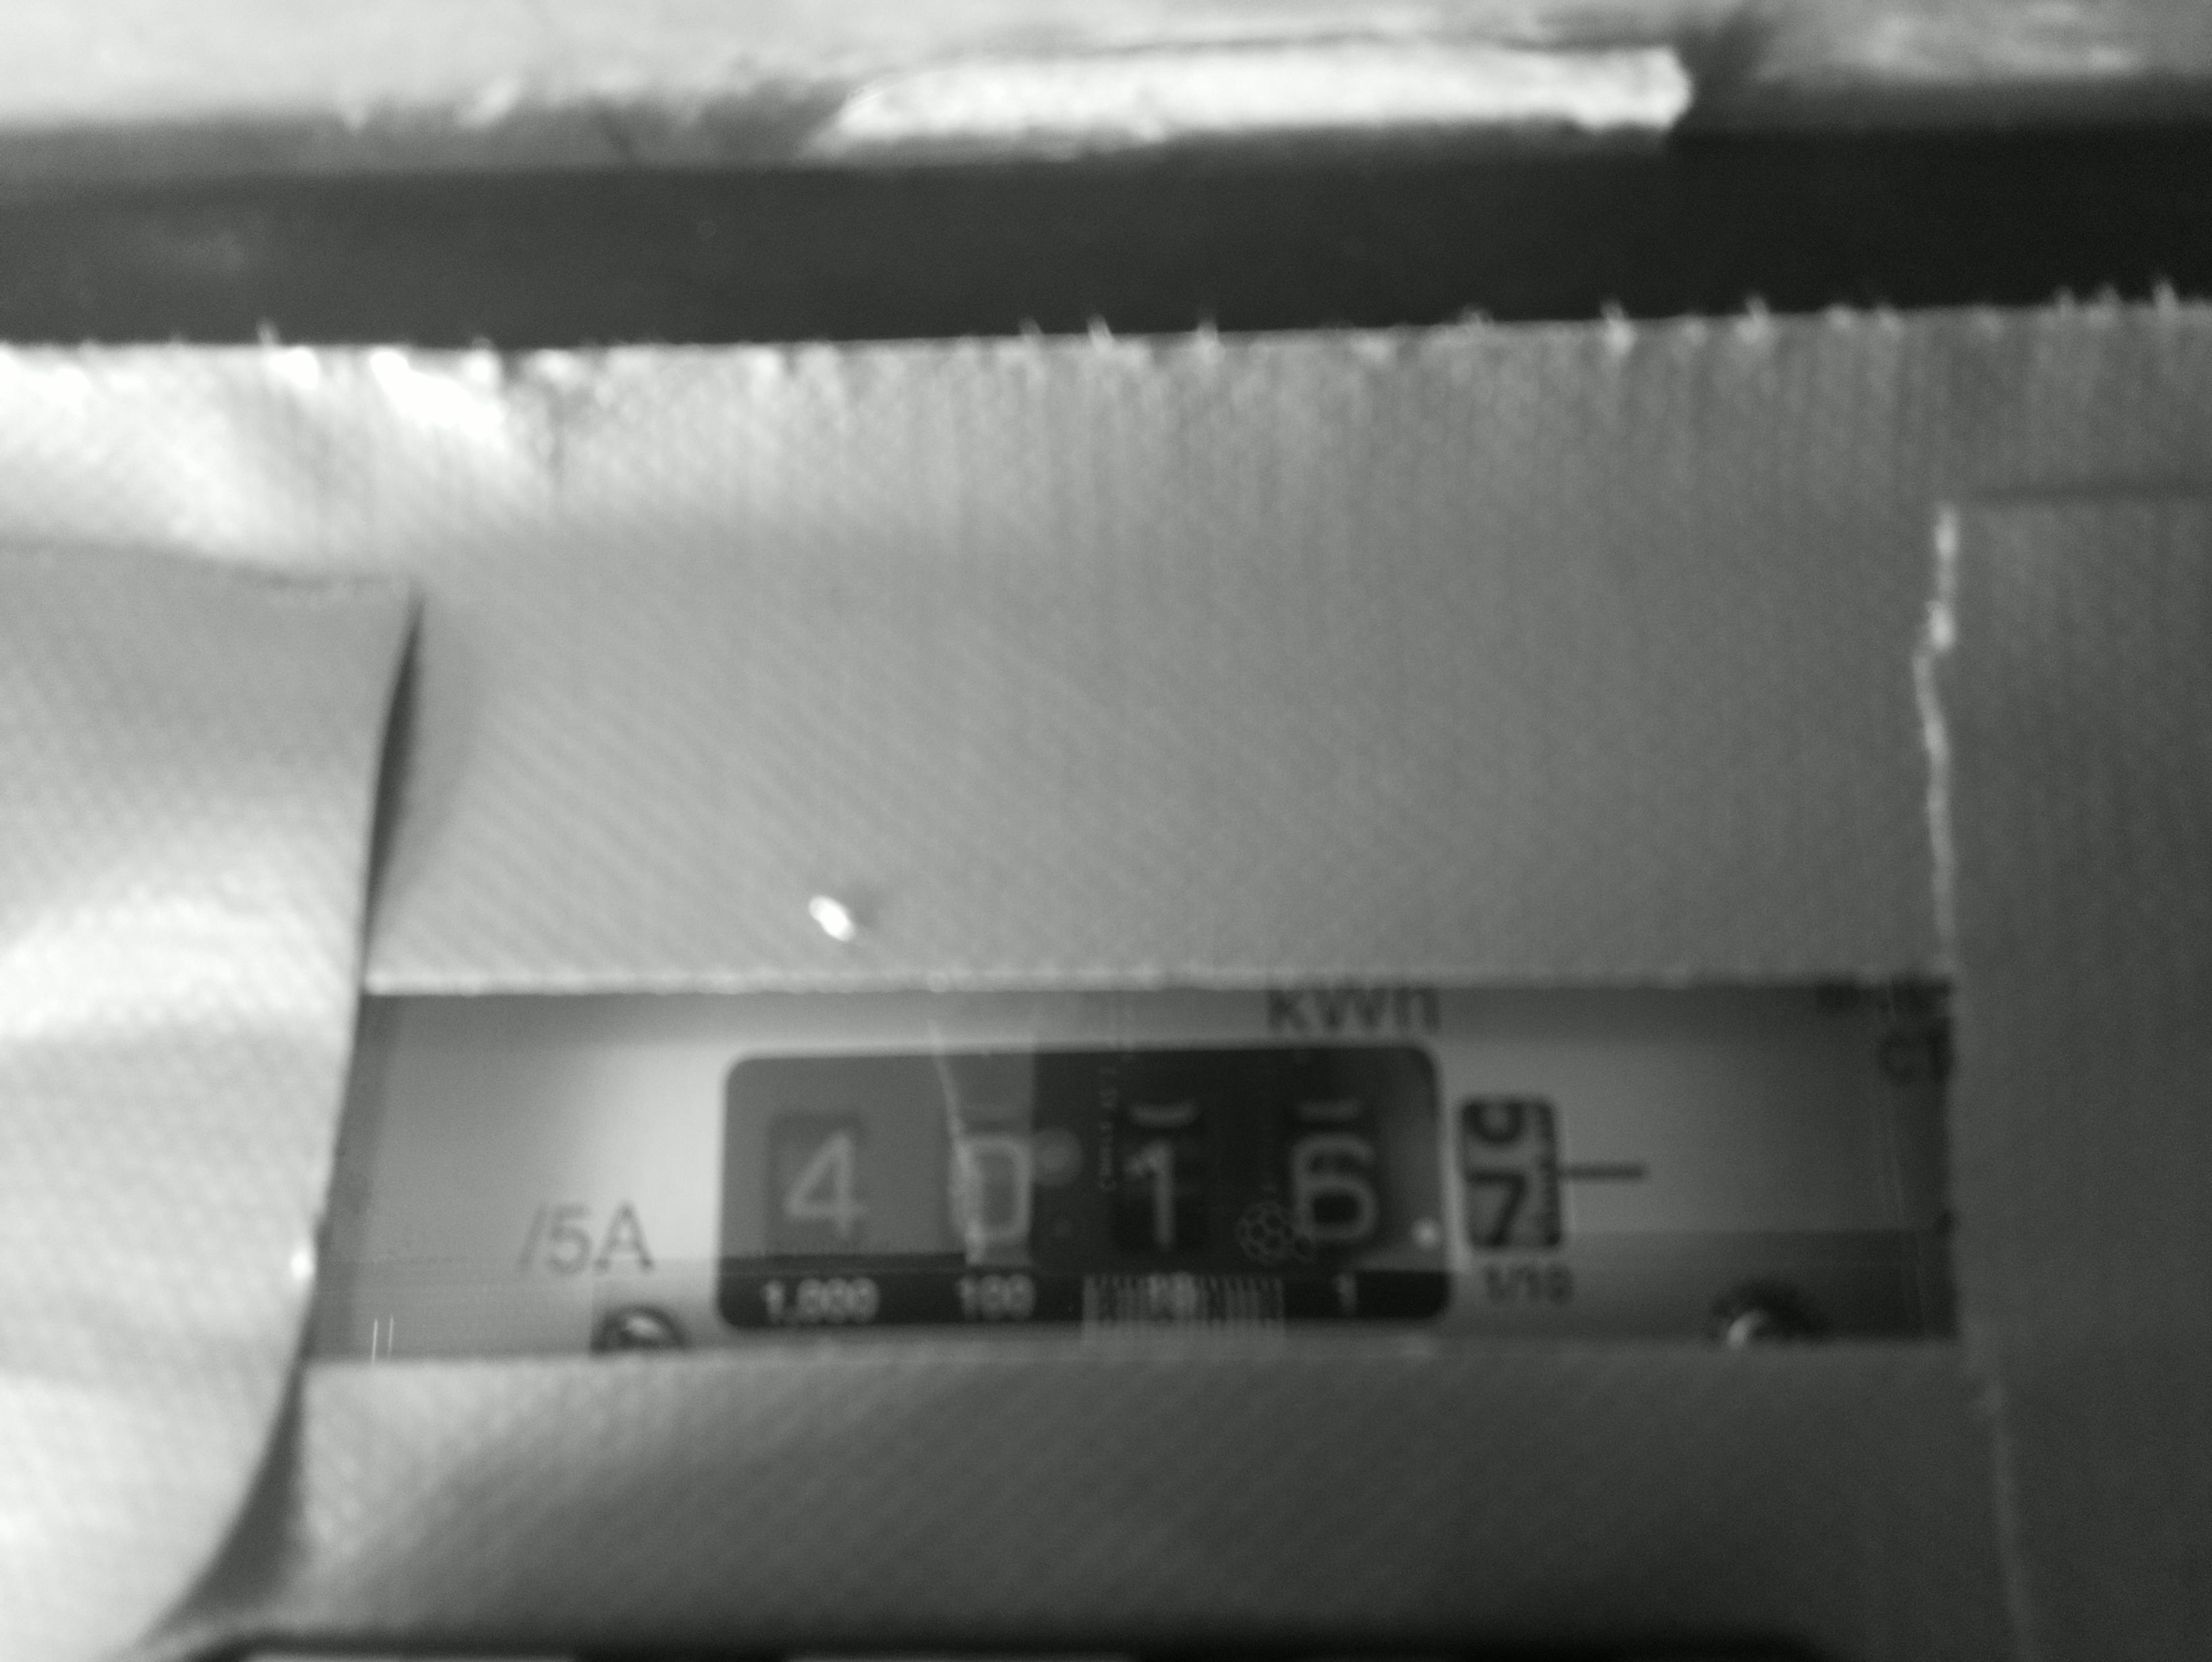meter_box: (676, 1030, 1636, 1351)
